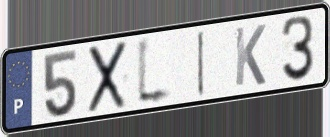3: (279, 14, 316, 84)
5: (41, 46, 79, 119)
I: (196, 28, 207, 99)
K: (233, 23, 268, 89)
L: (135, 33, 176, 110)
X: (86, 38, 130, 117)
